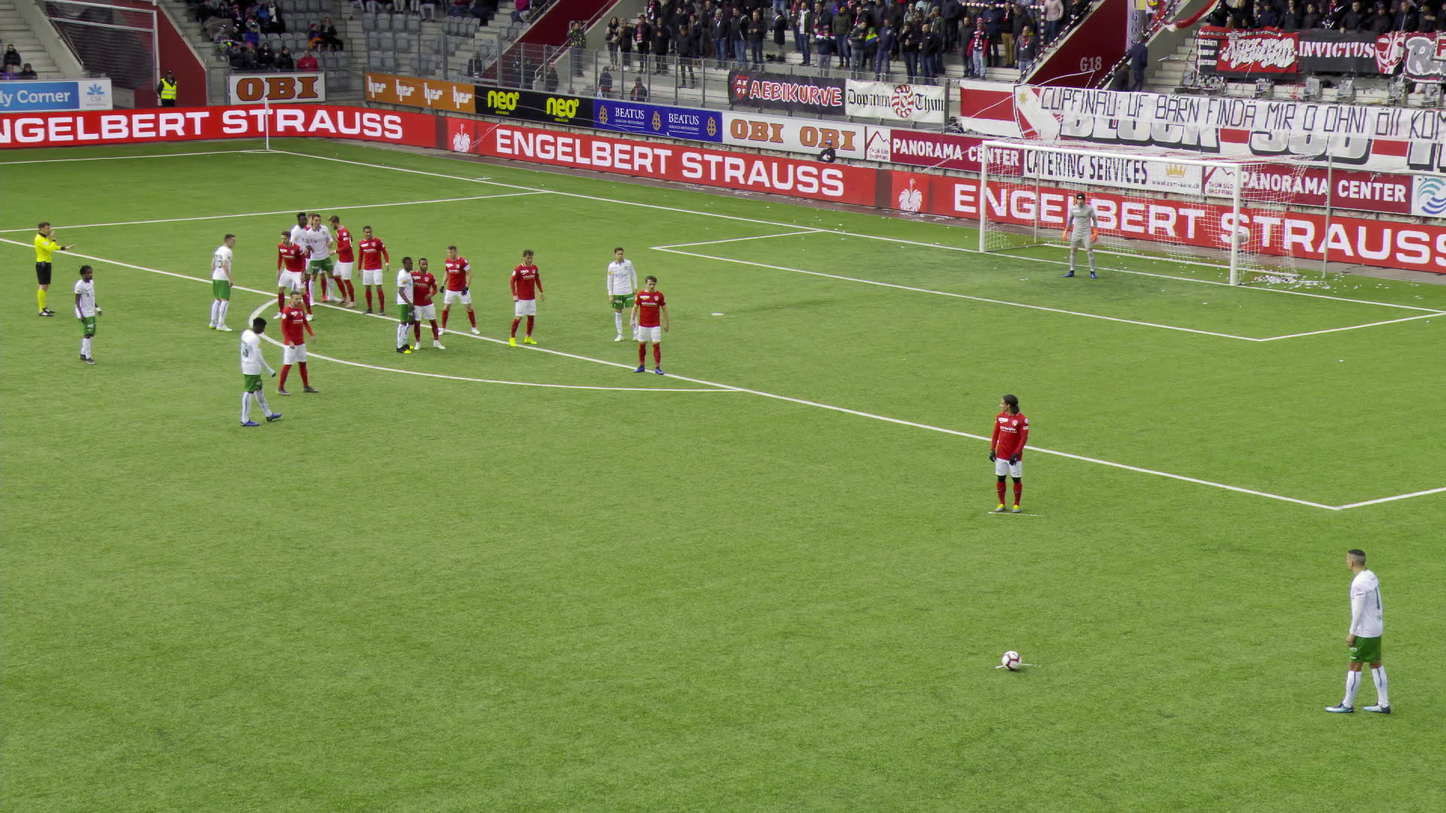ball: (999, 650, 1022, 671)
player: (1322, 546, 1393, 715), (987, 391, 1033, 514), (236, 315, 281, 429), (274, 289, 321, 397), (624, 273, 670, 377), (435, 243, 481, 338), (272, 229, 315, 322), (507, 248, 546, 348), (69, 263, 105, 368), (303, 212, 343, 306), (604, 245, 639, 345), (1060, 190, 1099, 279), (409, 256, 445, 351), (282, 208, 316, 306), (356, 224, 392, 315), (326, 214, 356, 309), (301, 211, 331, 305), (208, 232, 236, 332), (394, 254, 416, 354)
referee: (32, 220, 78, 318)
